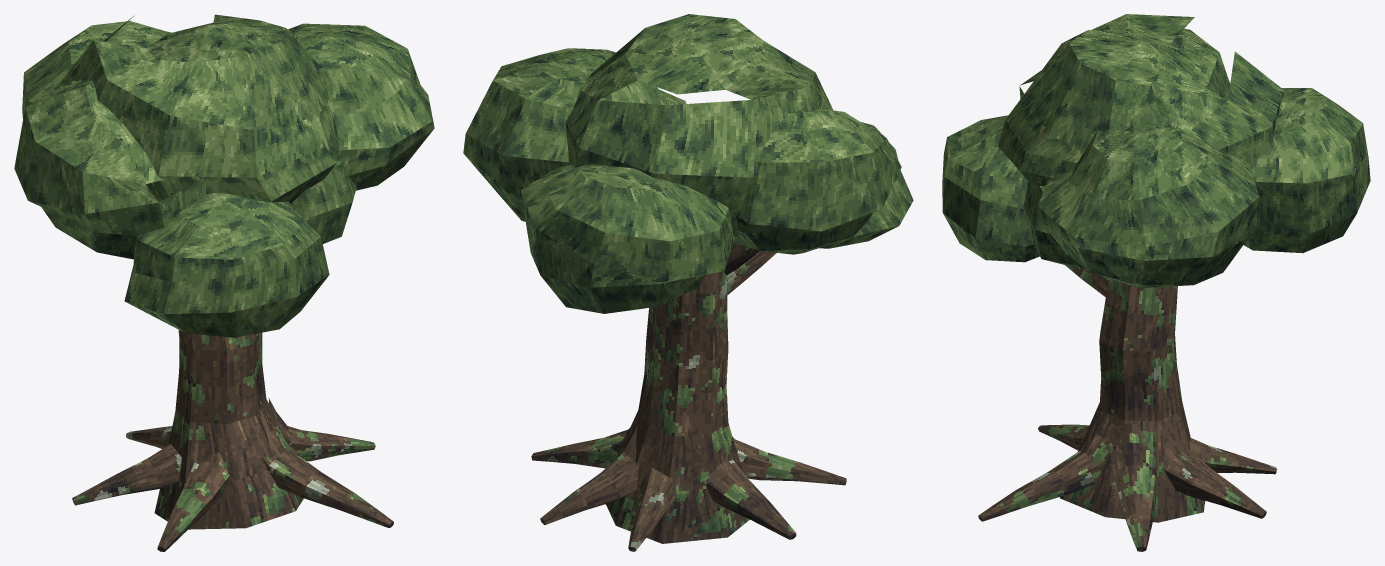
Rendered from oak_a.glb.
The picture shows the model from 3 angles, left to right: view 1: azimuth 30°, elevation 25°; view 2: azimuth 150°, elevation 25°; view 3: azimuth 270°, elevation 25°; orthographic projection. The views are drawn at different scales.
Visible parts, largest first — view 1: crown_31, crown_17, crown_12, trunk_1, crown_22, root_3, crown_27, root_4, crown_32, root_5, root_2, root_6; view 2: crown_31, crown_27, trunk_1, crown_12, crown_22, root_5, root_7, root_4, root_6, crown_17, root_2, limb_13 (+1 smaller); view 3: crown_22, crown_31, trunk_1, crown_27, crown_17, root_2, root_3, root_7, crown_12, crown_32, root_6, root_4 (+1 smaller).
Part boxes in pixels (x1,y1,x2,y2): crown_31: (59,14,339,203); crown_17: (124,193,329,337); crown_12: (14,80,206,259); trunk_1: (154,330,303,529); crown_22: (288,23,434,190); root_3: (260,411,393,527); crown_27: (22,21,171,118); root_4: (157,451,230,551); crown_32: (291,160,356,243); root_5: (72,444,181,505); root_2: (268,398,375,461); root_6: (126,426,172,448); crown_31: (565,14,833,236); crown_27: (520,164,734,313); trunk_1: (606,271,749,543); crown_12: (733,108,901,254); crown_22: (463,48,686,221); root_5: (703,459,796,539); root_7: (540,425,638,524); root_4: (733,437,846,485); root_6: (628,468,676,551); crown_17: (819,122,913,248); root_2: (531,428,629,468); limb_13: (727,251,776,295); crown_22: (1038,124,1259,287); crown_31: (998,14,1284,188); trunk_1: (1060,278,1205,522); crown_27: (1243,88,1370,253); crown_17: (942,115,1039,262); root_2: (1108,424,1156,551); root_3: (978,417,1116,521); root_7: (1163,430,1266,518); crown_12: (1019,28,1230,100); crown_32: (1023,181,1088,270); root_6: (1189,438,1276,474); root_4: (1038,424,1089,450).
Bounding box in the file's own units: 64.62 × 73.39 × 62.83.
Materials: 1 (1 with a texture image).
